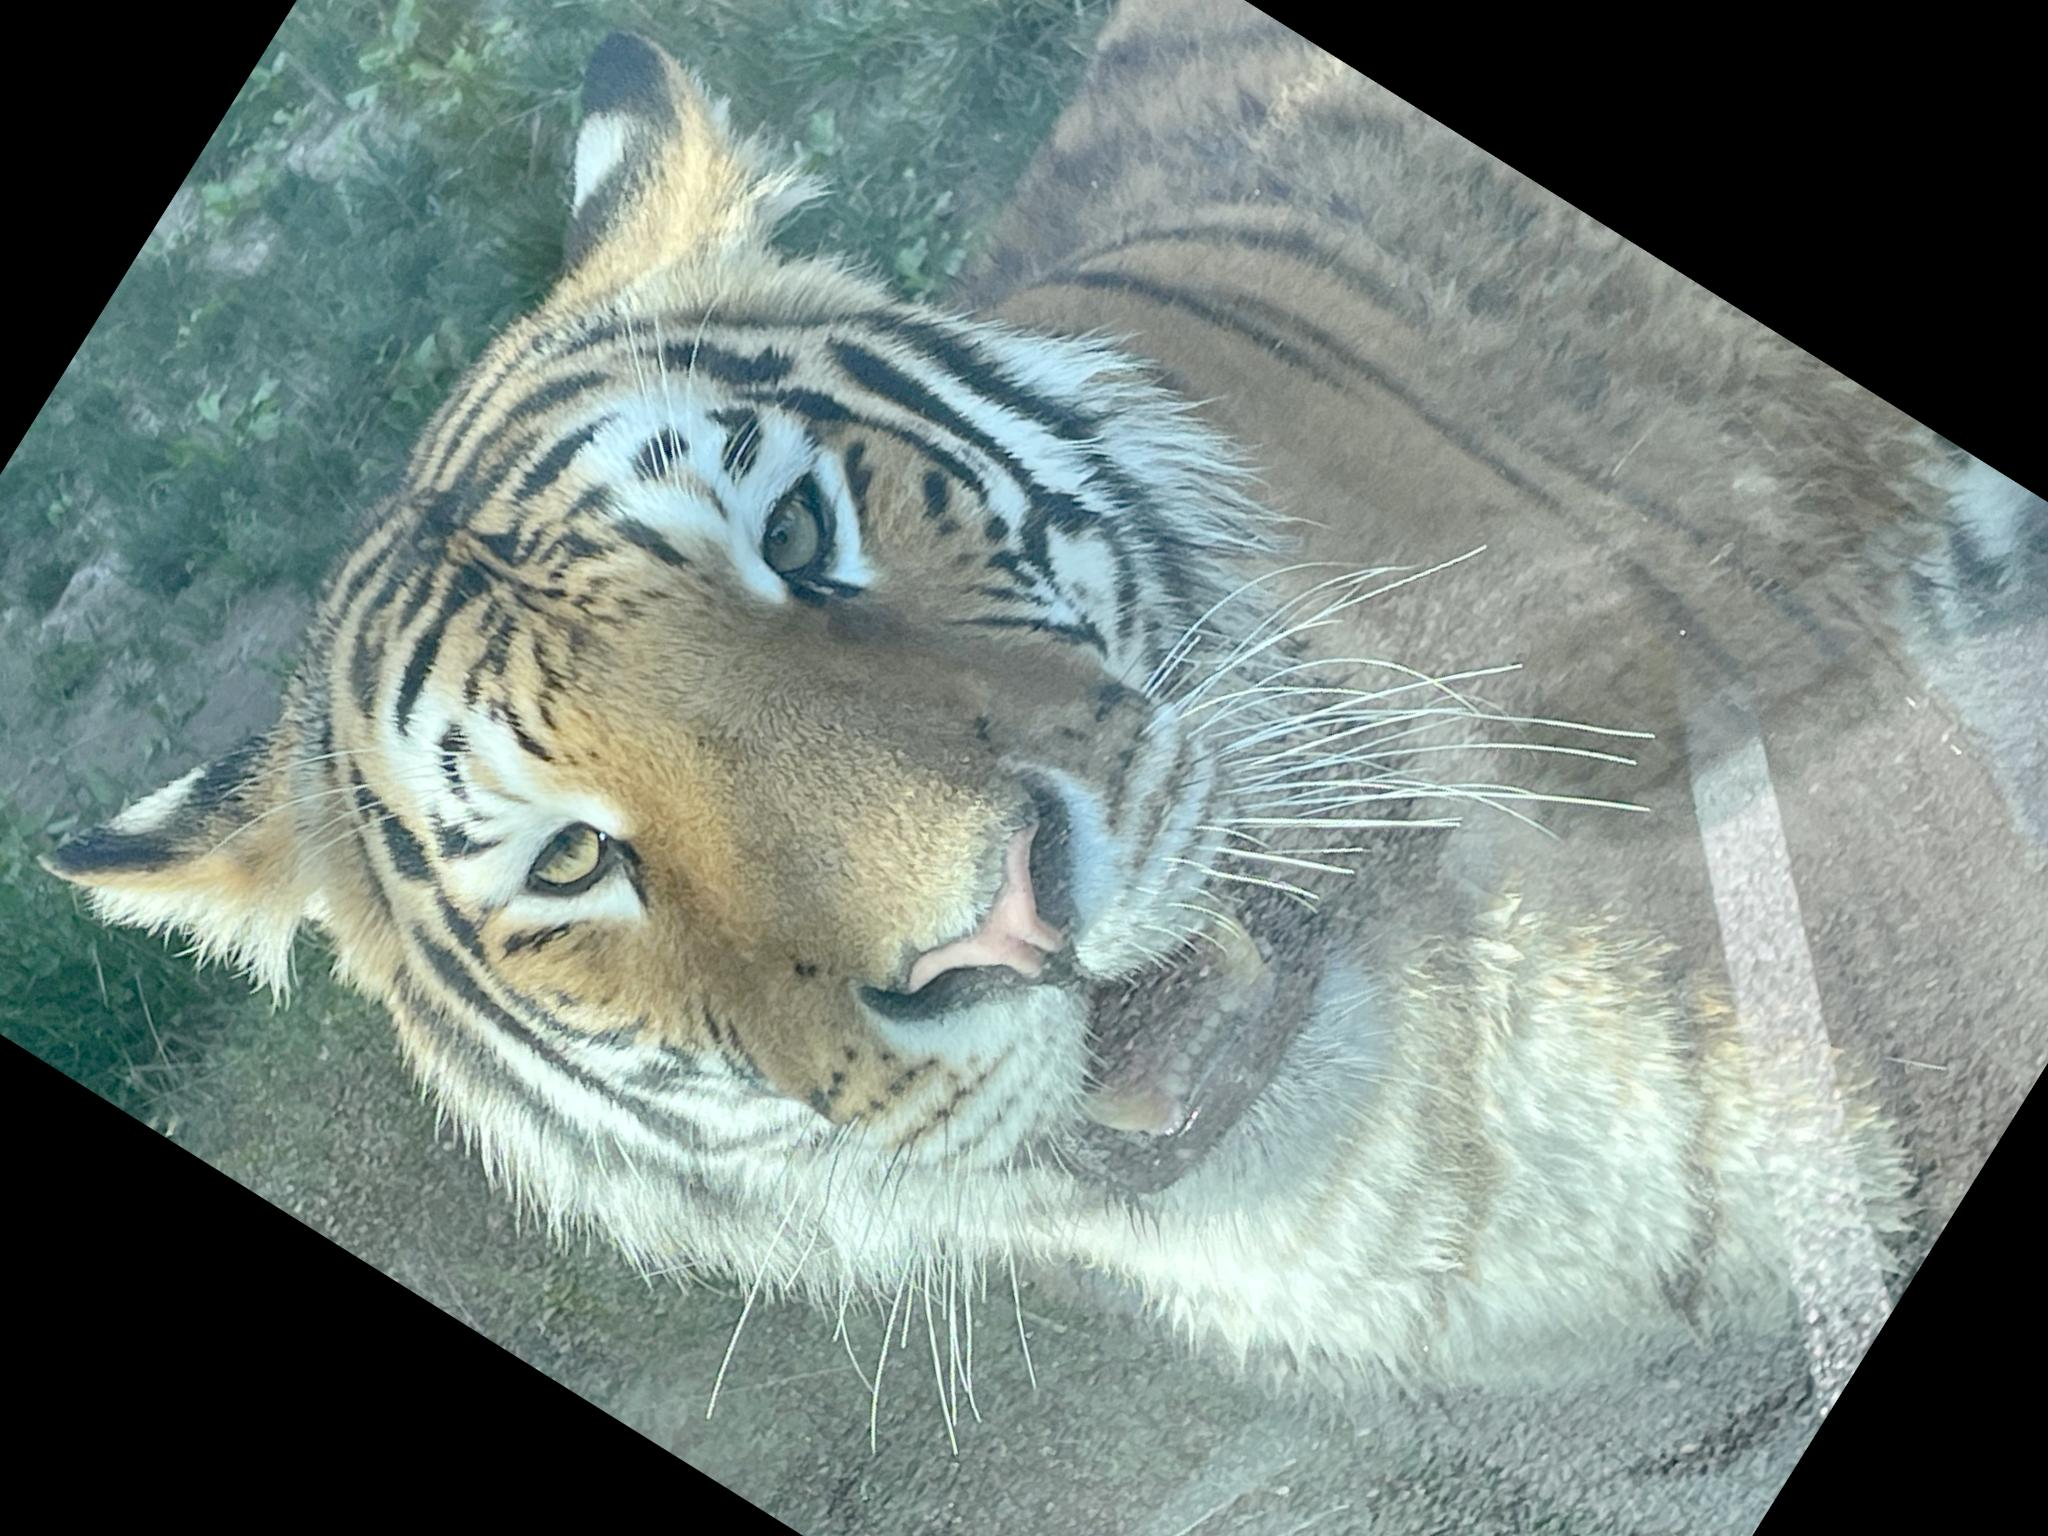tiger: (0, 0, 1738, 1536)
